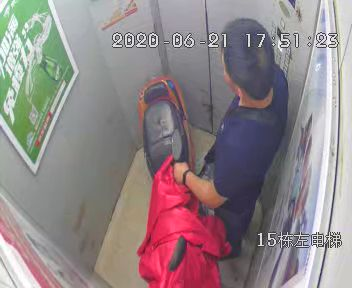Electric-bicycle: (136, 74, 196, 288)
